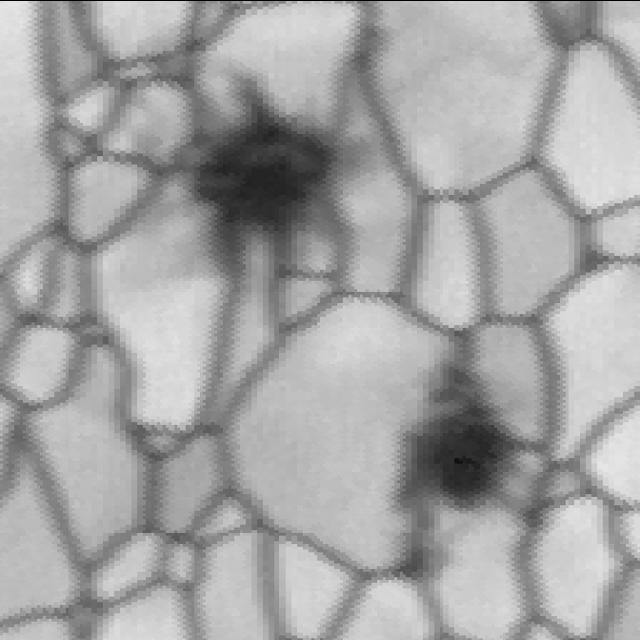good_void: (167, 37, 384, 268), (378, 341, 554, 530)
